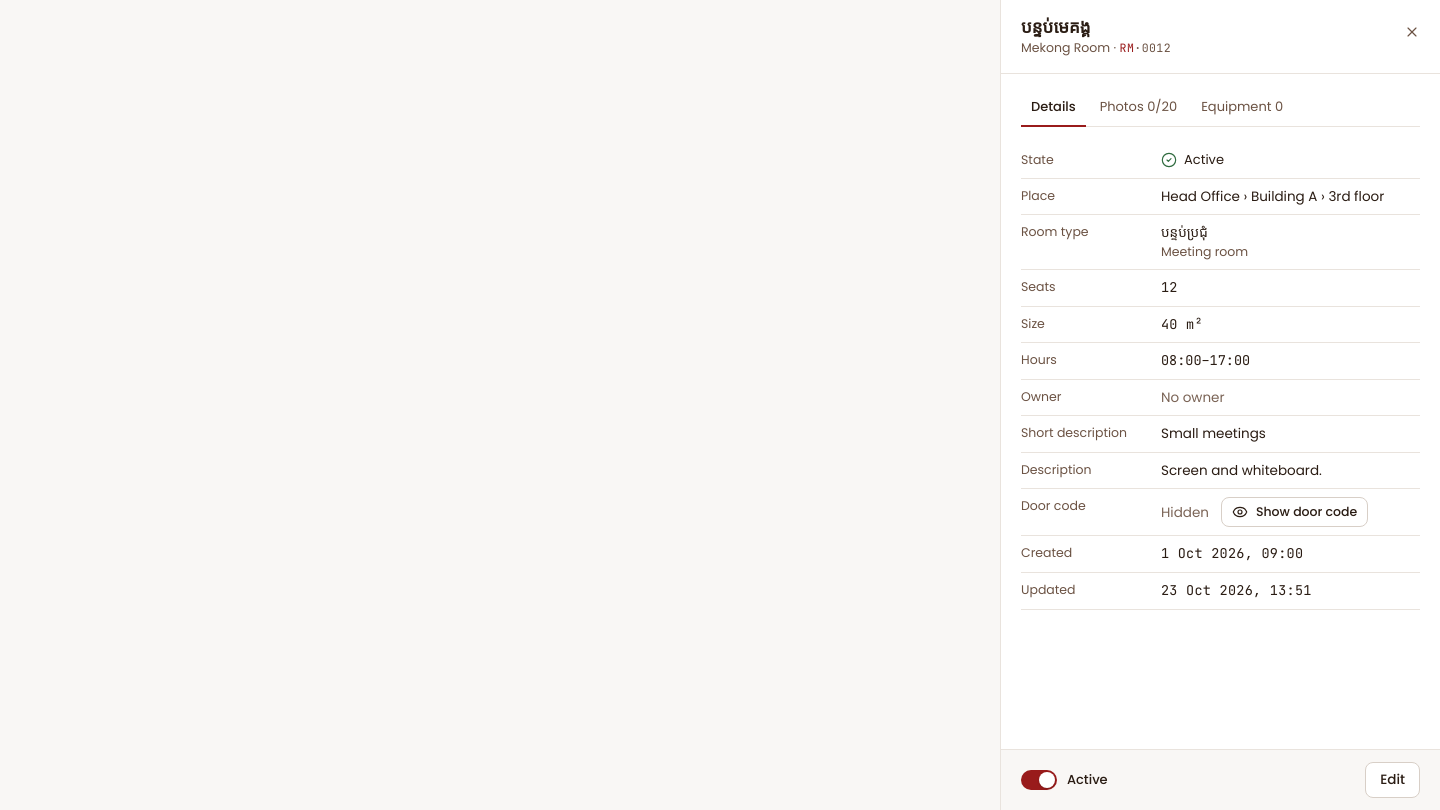
Test case: RoomDetailPanel › shows the door code only when asked, and hides it again
Click the button "Show door code" at (1295, 512), box [1221,497,1368,527]
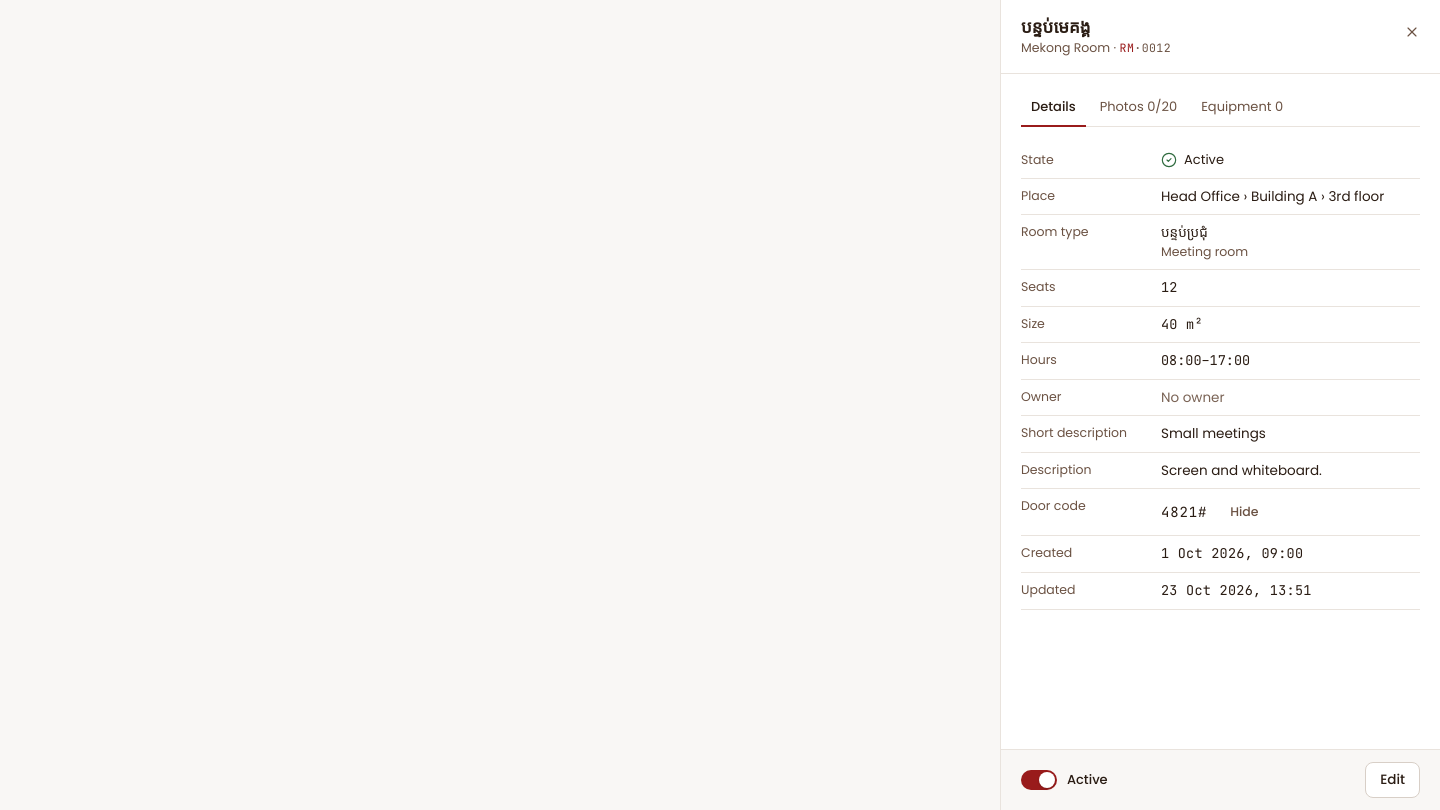
Now the text with class "door-code" reads "4821#", box [1161,503,1207,521]
Click the button "Hide" at (1244, 512), box [1219,497,1270,527]
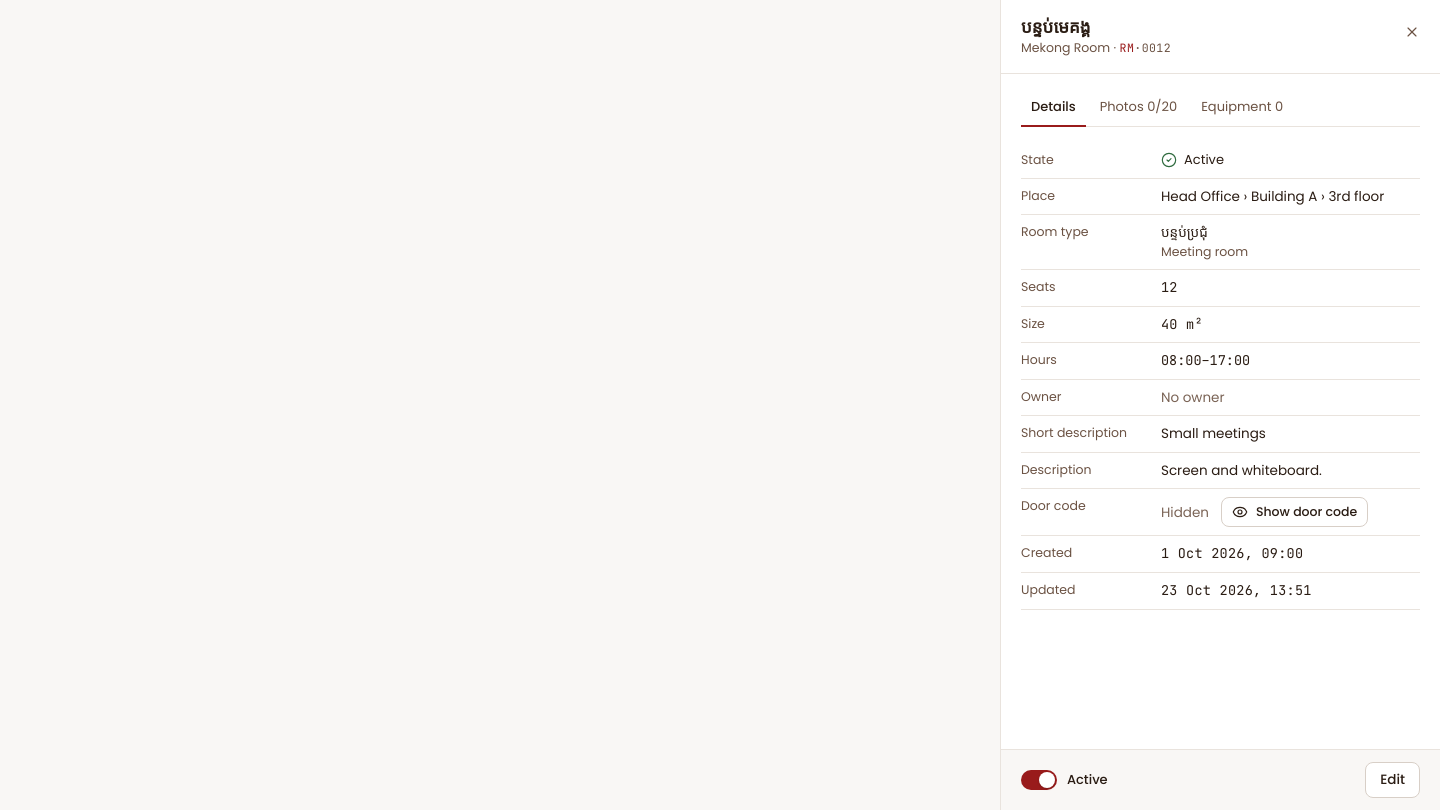
Now the text "4821#" is gone
